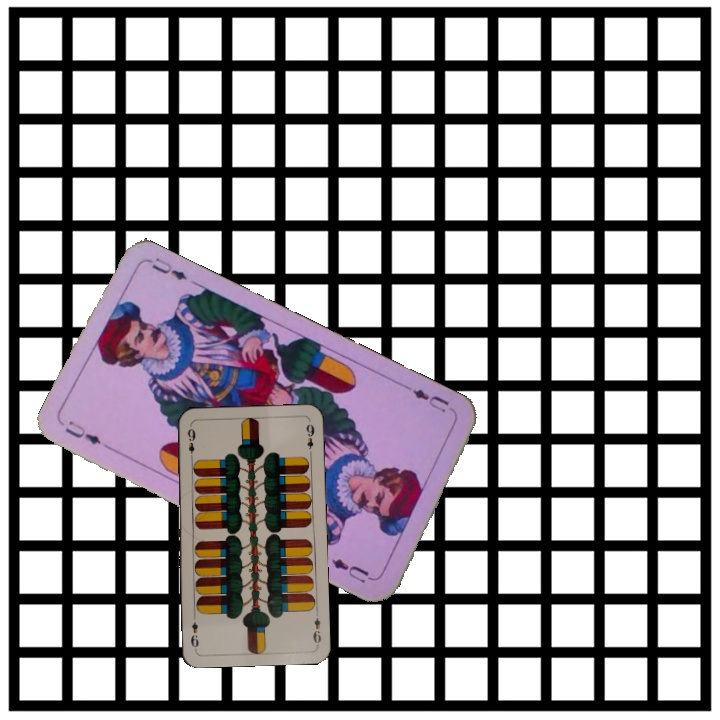E9: (309, 607, 324, 648), (184, 422, 198, 463)
EU: (61, 416, 115, 454), (402, 381, 452, 415)
